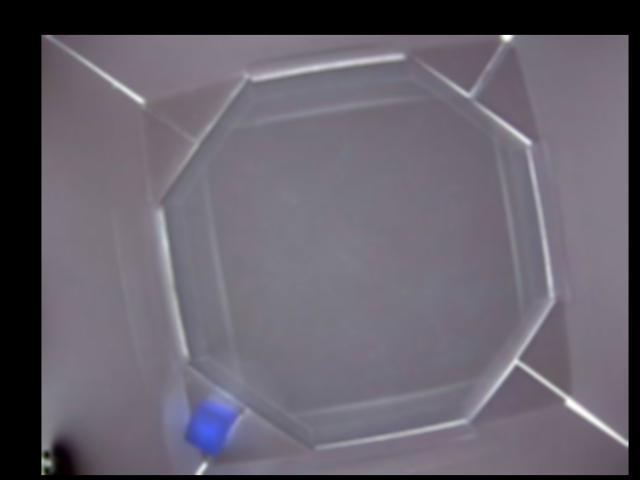Potato: (183, 397, 239, 455)
